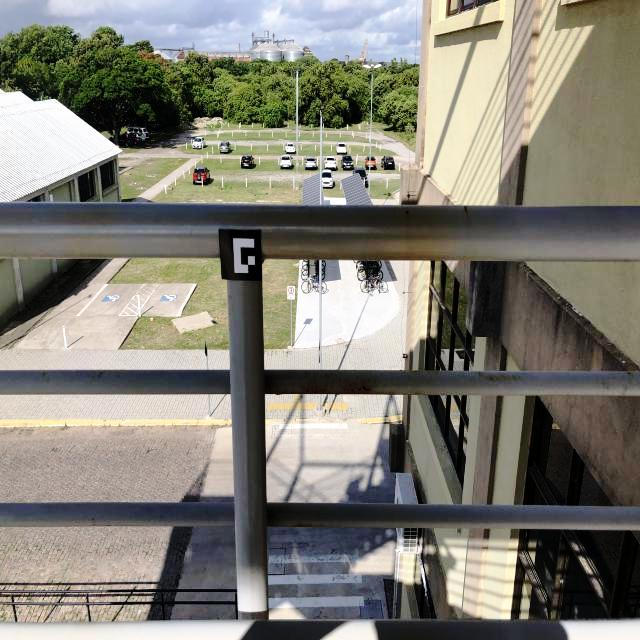Corrosion: (305, 382, 372, 394), (464, 205, 467, 213), (405, 211, 408, 214)
